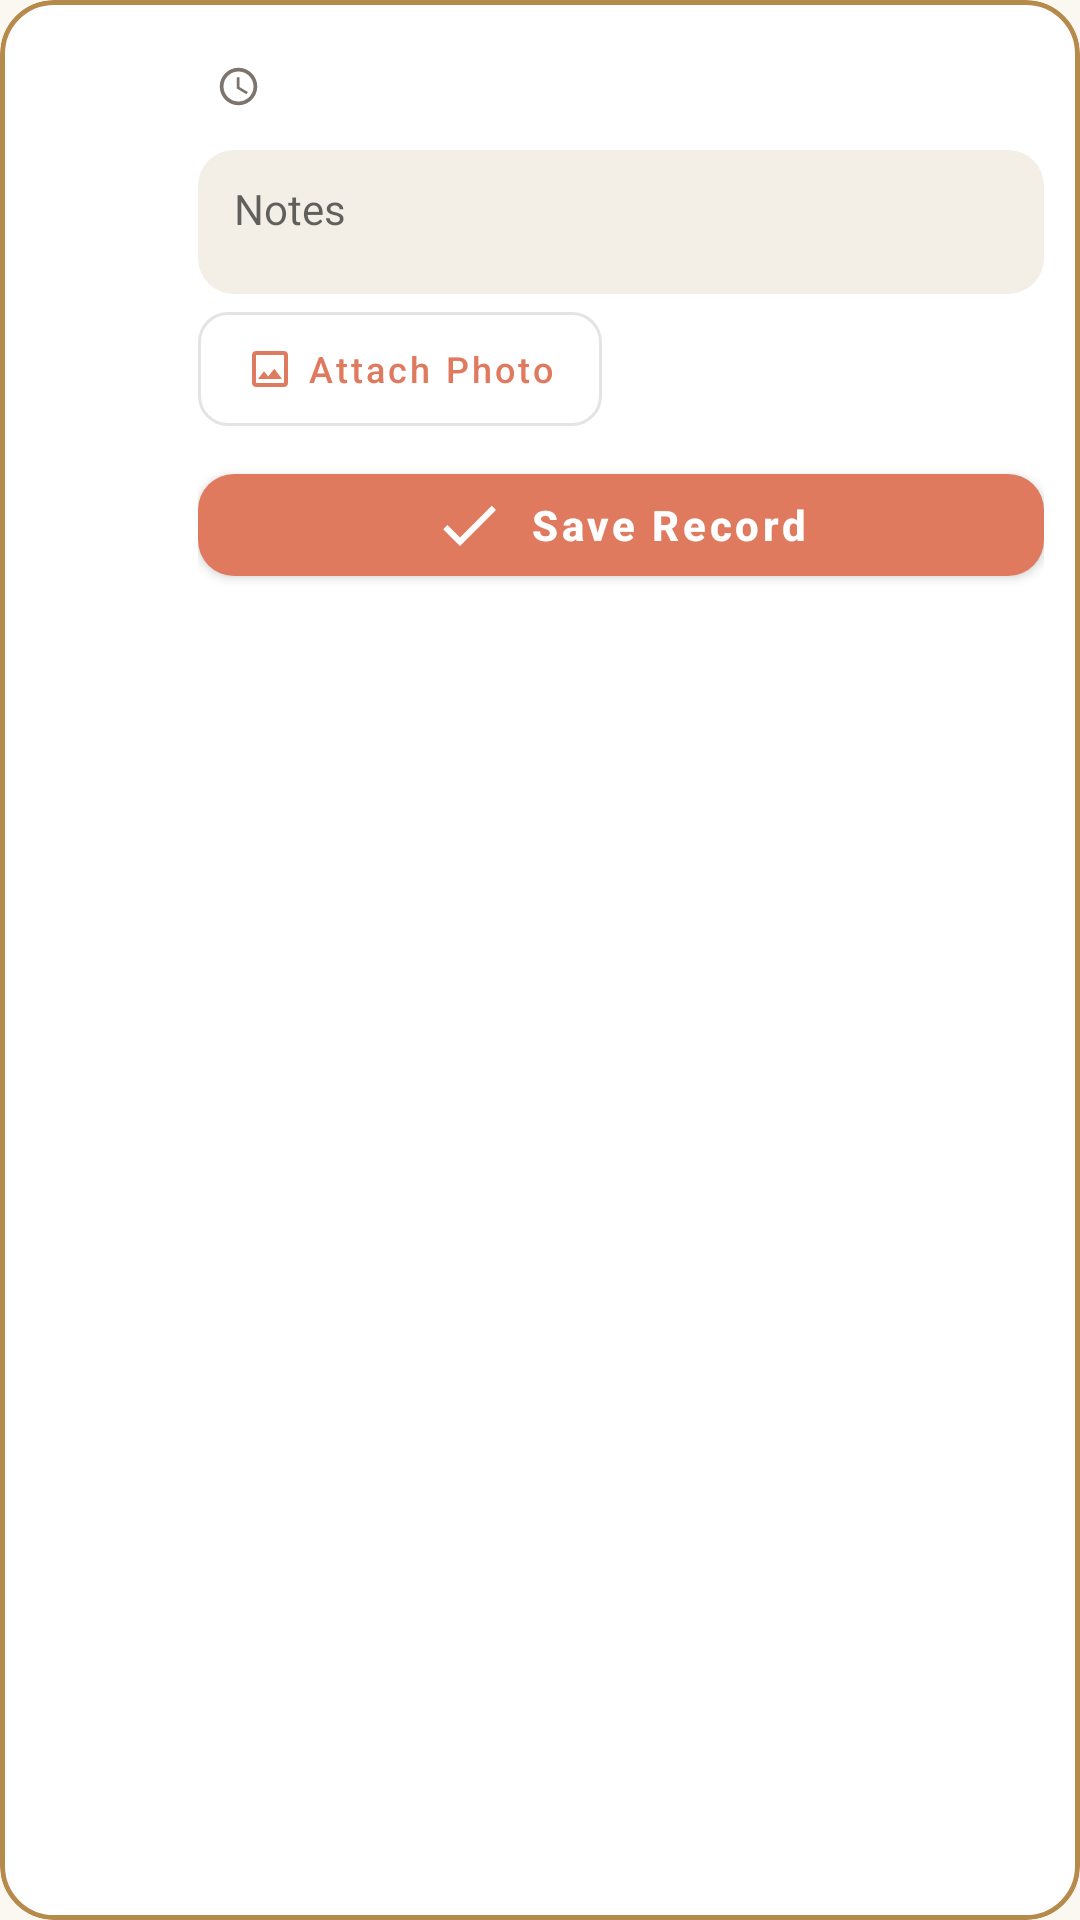

Named icons in this screenshot (1080×1920) and their centers, point (x, y):
schedule clock: point (238, 86)
